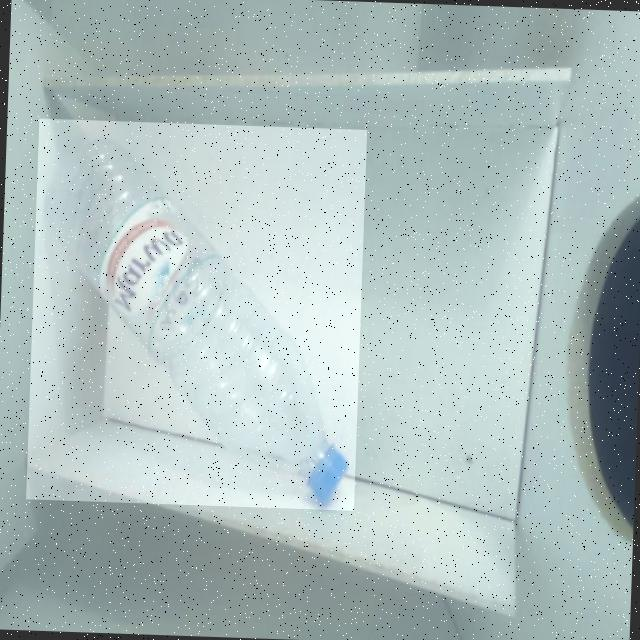bottle: (26, 118, 367, 510)
cap: (306, 441, 356, 508)
label: (92, 186, 215, 360)
